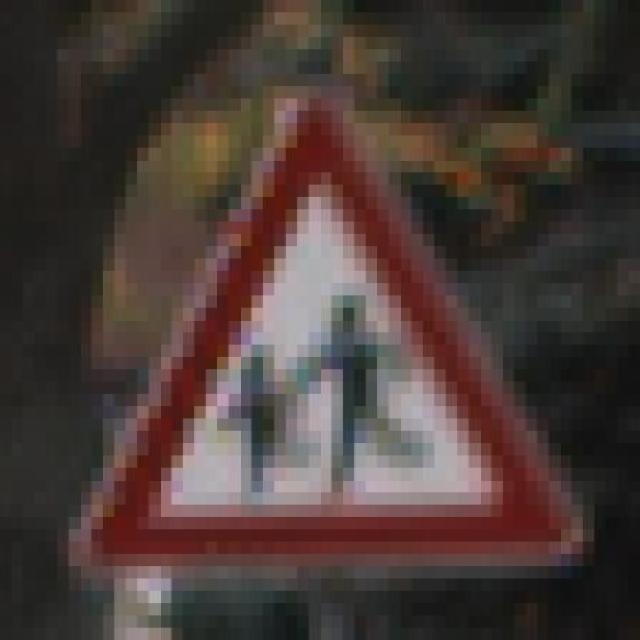Beware of children: (46, 74, 594, 578)
